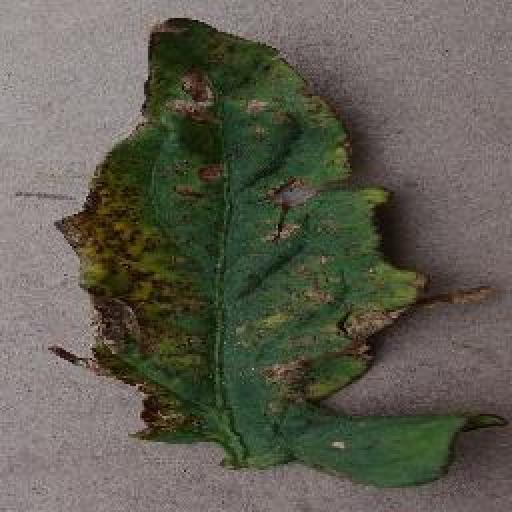Bacterial Spot: (52, 12, 508, 492)
